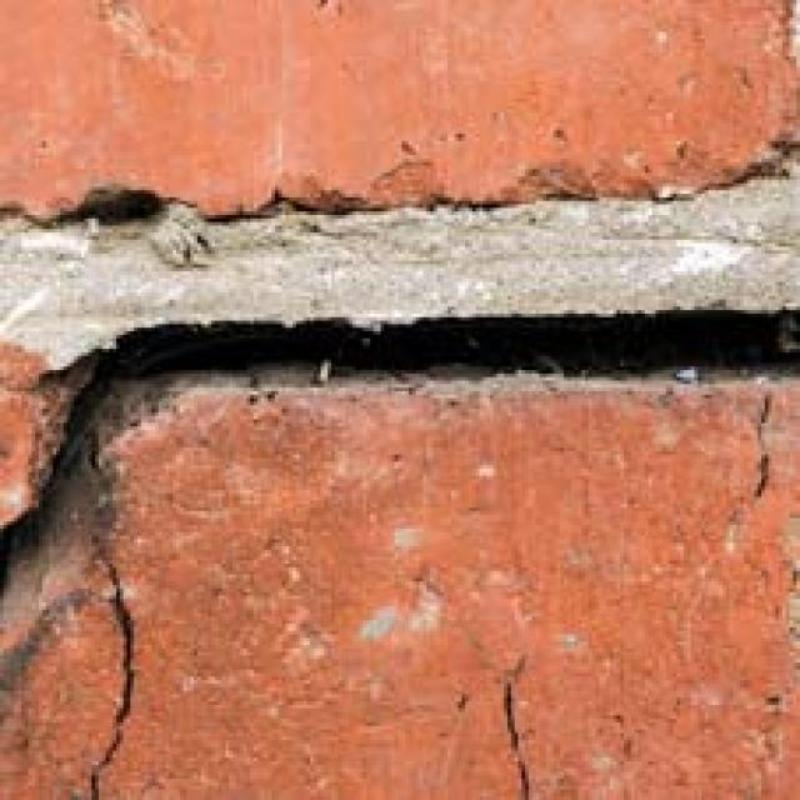crack: (0, 311, 800, 591), (89, 558, 136, 799), (56, 188, 166, 224), (503, 658, 531, 799), (755, 392, 772, 496)
